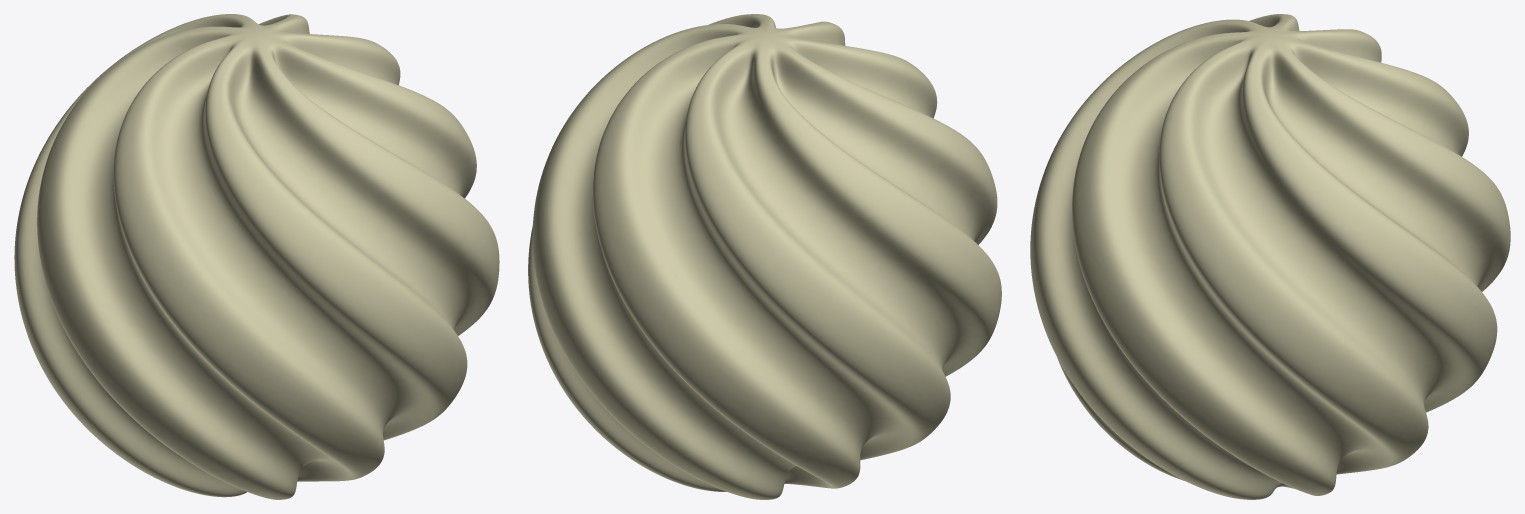
The picture shows the model from 3 angles, left to right: view 1: azimuth 30°, elevation 25°; view 2: azimuth 150°, elevation 25°; view 3: azimuth 270°, elevation 25°; orthographic projection.
Visible parts, largest first — view 1: Sphere; view 2: Sphere; view 3: Sphere.
Boxes of the visible parts, left/top/right/bottom form: Sphere: left=14, top=14, right=499, bottom=499; Sphere: left=528, top=14, right=1001, bottom=499; Sphere: left=1030, top=14, right=1510, bottom=499.
Size of the model in its own units: 2.93 by 2.99 by 2.93.
